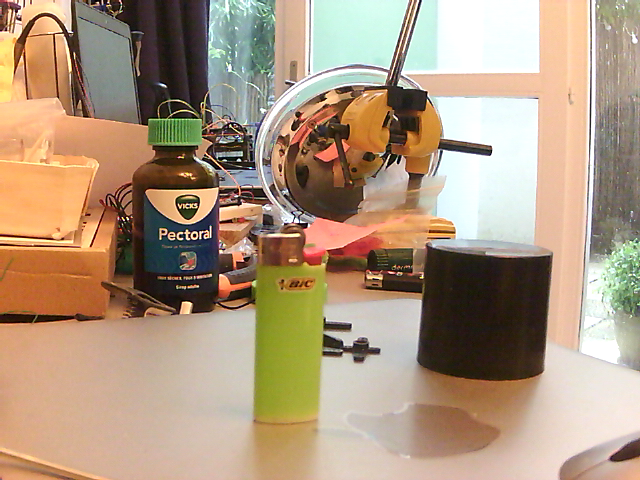lighter: (251, 230, 328, 425), (361, 267, 424, 295)
